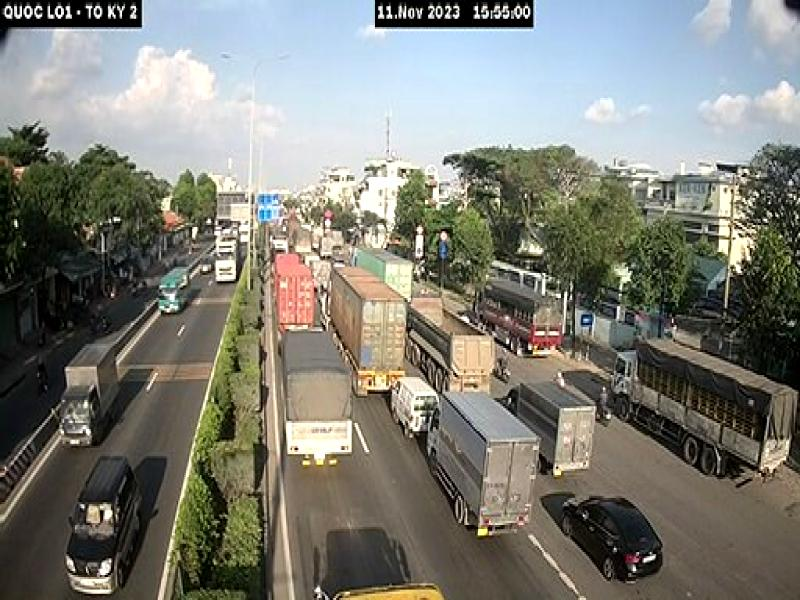bus: (158, 260, 191, 320)
truck: (610, 336, 800, 485), (428, 391, 540, 538), (321, 264, 408, 398), (279, 327, 354, 469), (505, 386, 597, 484), (409, 293, 494, 394), (473, 274, 565, 360), (62, 343, 119, 448), (353, 241, 412, 302)
